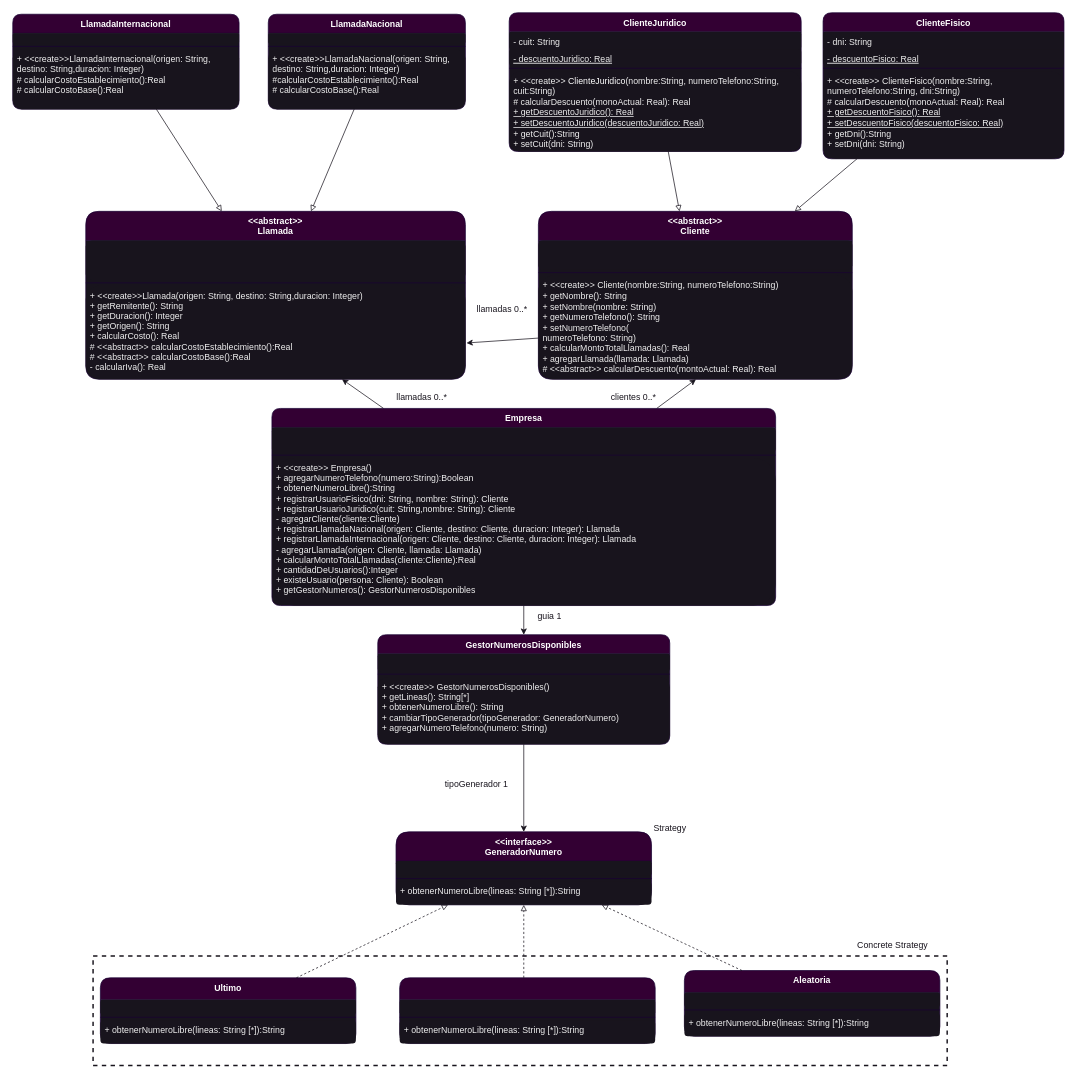
This 1077x1079 diagram has some shape labels left out. Here are the shapes that lost their labels. From the top down, the box of each, then its label:
(85, 240, 465, 280): - origen: String - destino: String - duracion: Integer
(538, 240, 852, 269): - nombre: String - numeroTelefono: String
(377, 653, 669, 671): - lineas : String [*]
(399, 977, 655, 1044): Primero
